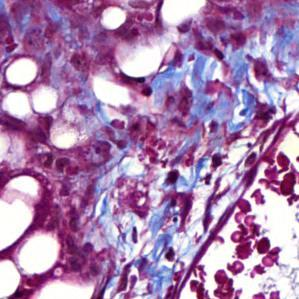steatosis: (7, 58, 39, 89)
